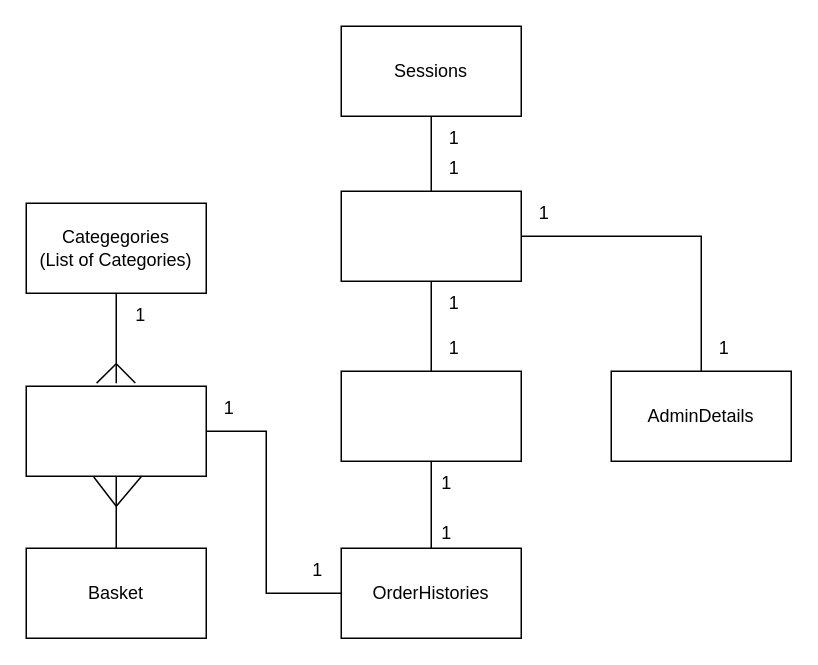
The diagram is 818 pixels wide and 665 high, and some of its shapes have lost their labels. Here are the shapes that lost their labels. From the top down, the centre of each, then its label:
At pixel 430 235: "AuthCollections".
At pixel 115 430: "Items".
At pixel 430 415: "UserDetails".
